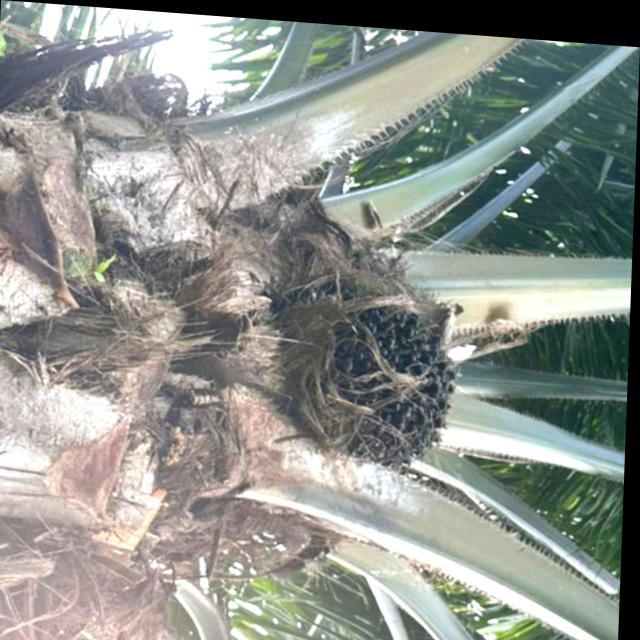unripe: (278, 242, 471, 478)
